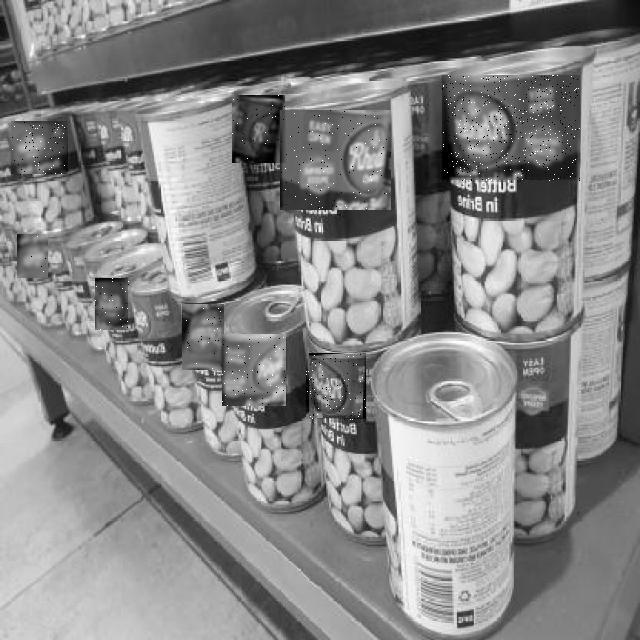Beans: (442, 76, 580, 182), (280, 110, 391, 210), (222, 334, 286, 406), (306, 354, 366, 422), (232, 95, 285, 163), (11, 121, 67, 174), (182, 304, 224, 370), (96, 278, 130, 330), (17, 234, 48, 278)
